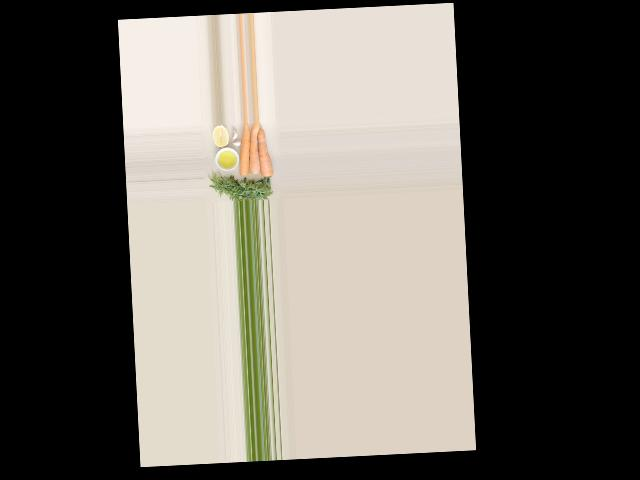carrot: (236, 122, 253, 178)
